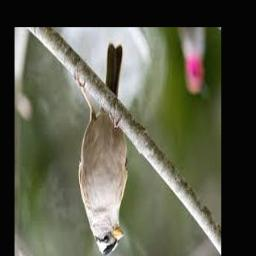Sparrow: (74, 45, 128, 255)
